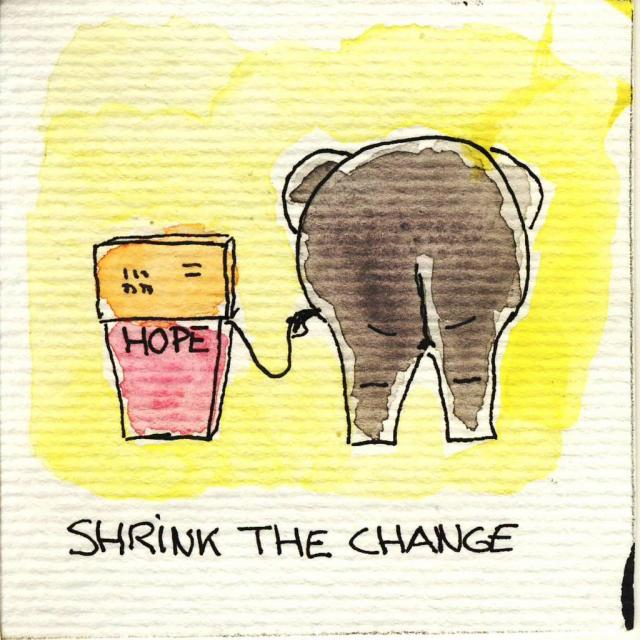elephant: (277, 118, 545, 464)
